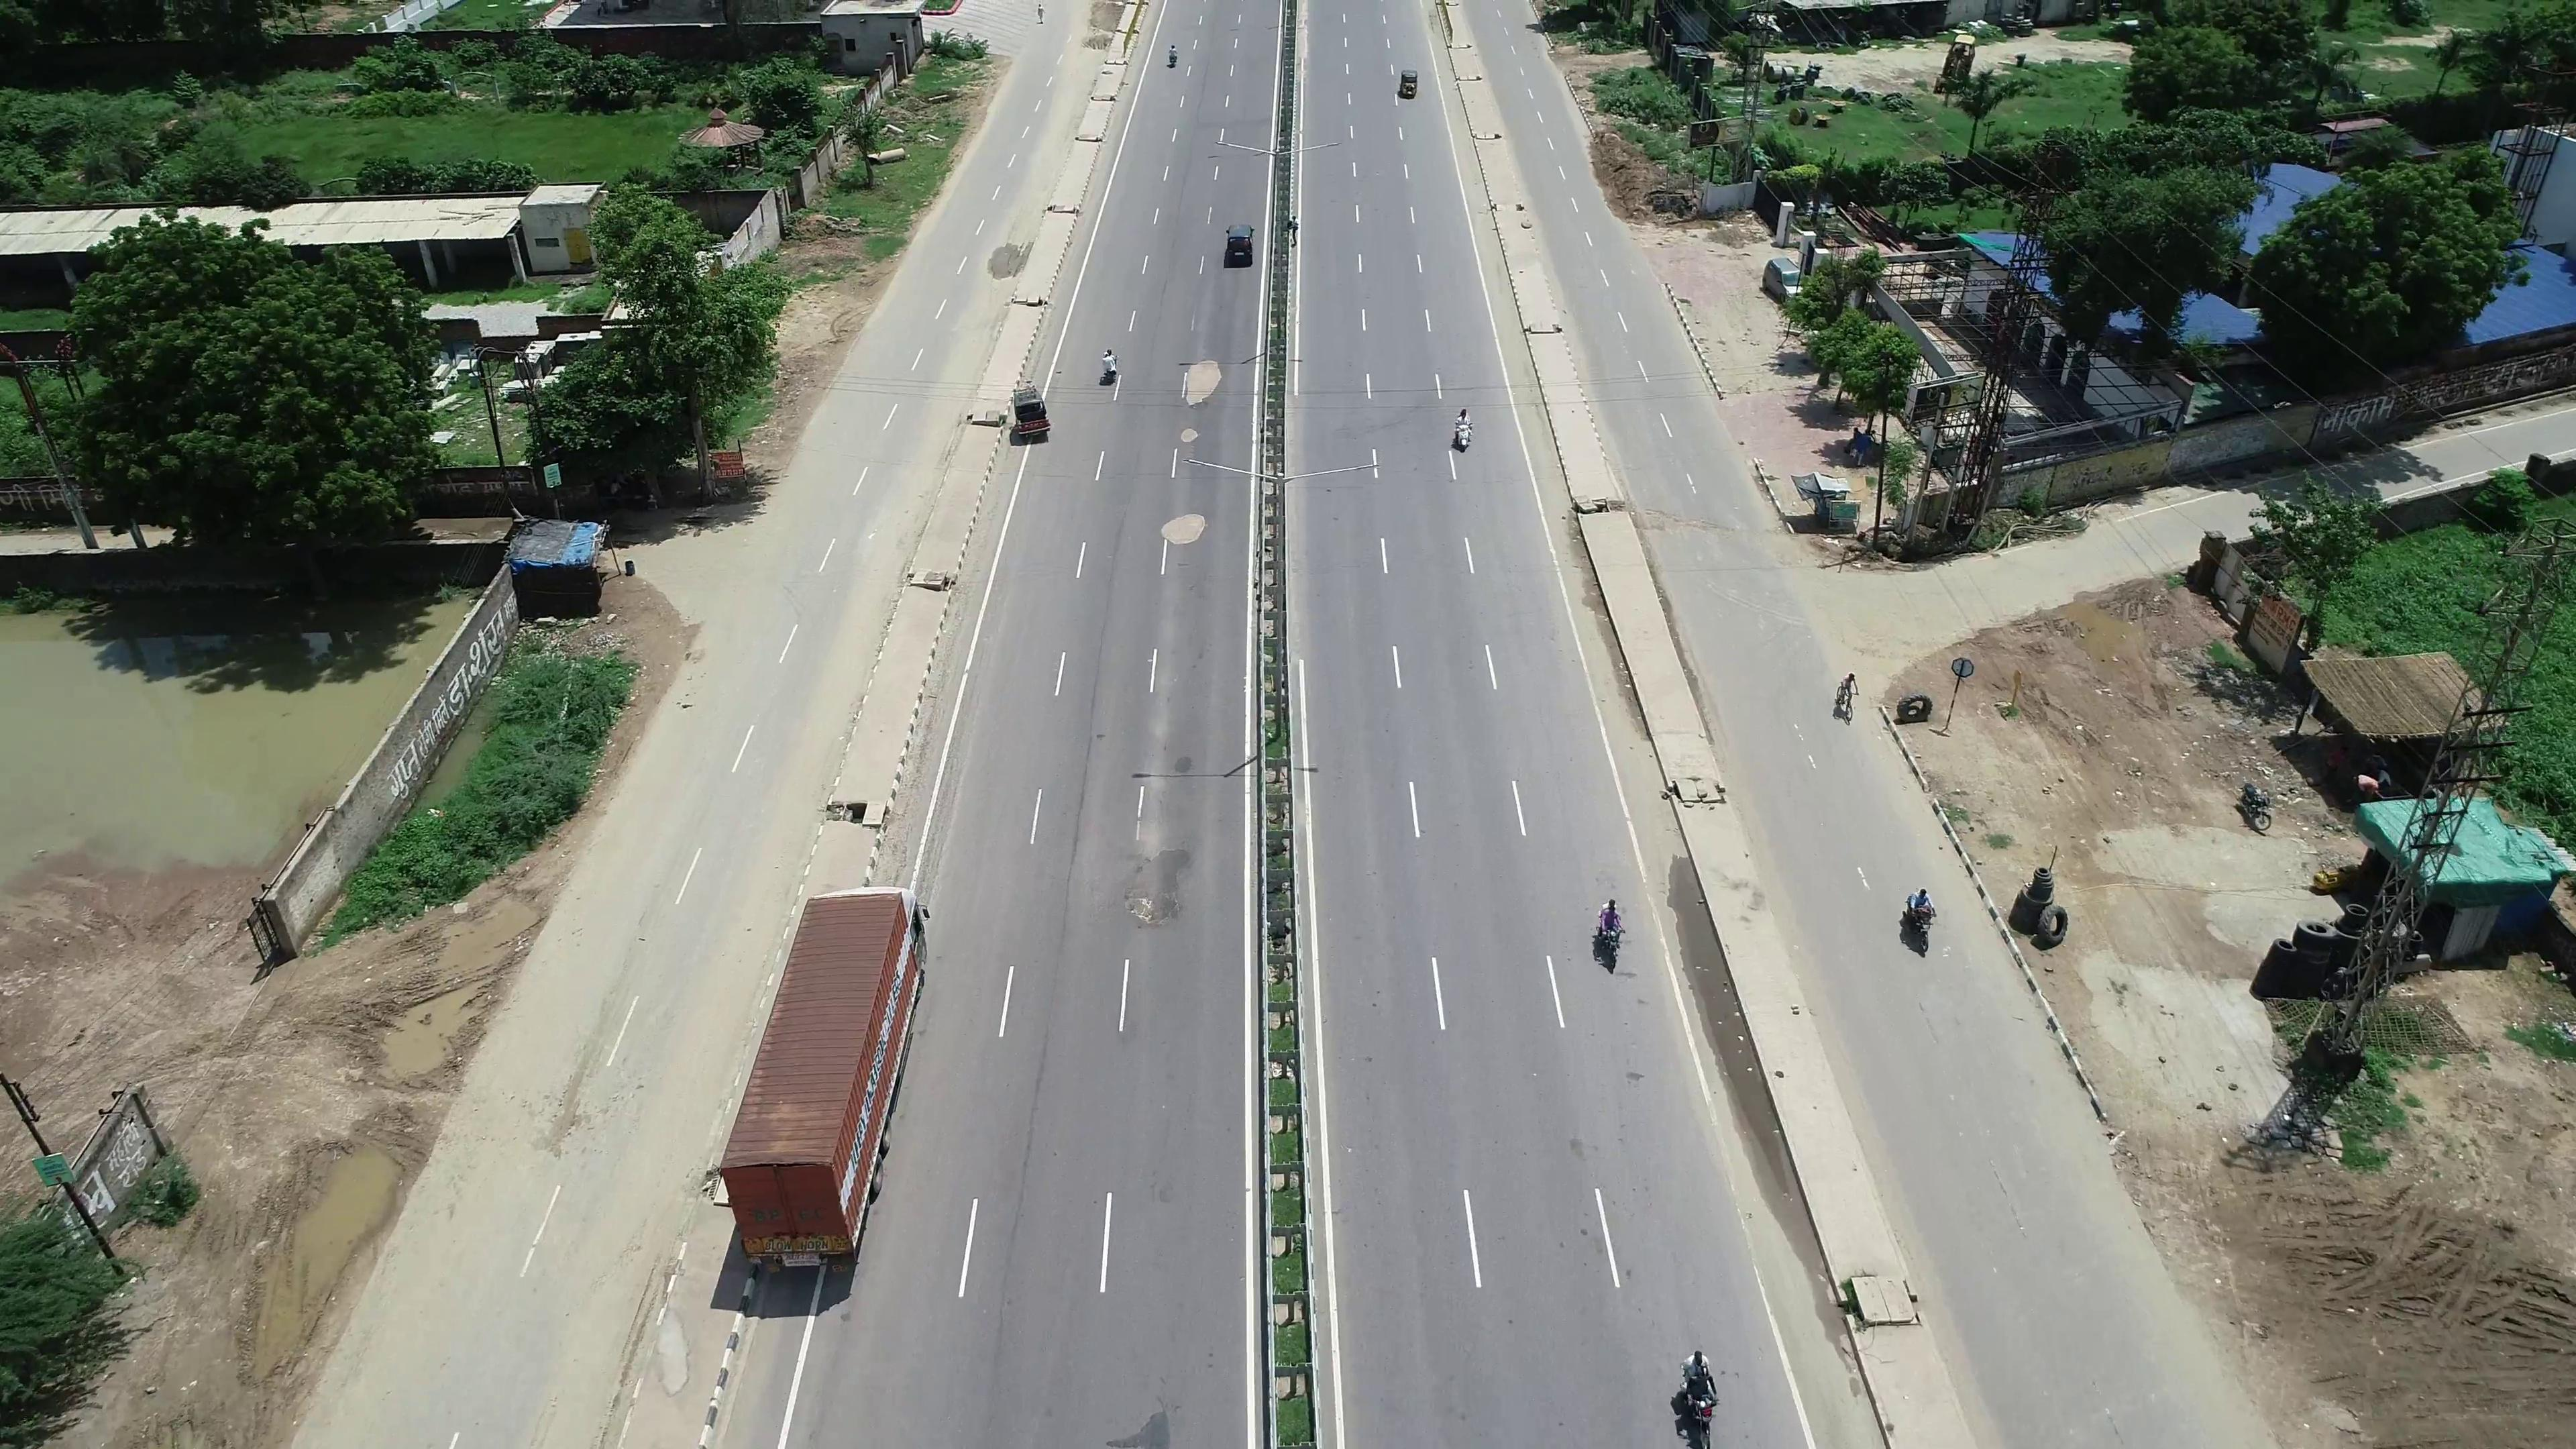Potholes: (1157, 329, 1237, 421), (1099, 879, 1182, 936), (1150, 501, 1221, 563), (1148, 407, 1217, 462)
